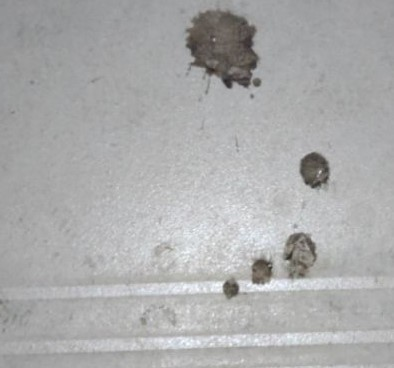grey spot: (185, 9, 261, 98), (283, 233, 318, 277), (299, 151, 329, 188), (252, 259, 273, 285), (222, 277, 239, 299)
